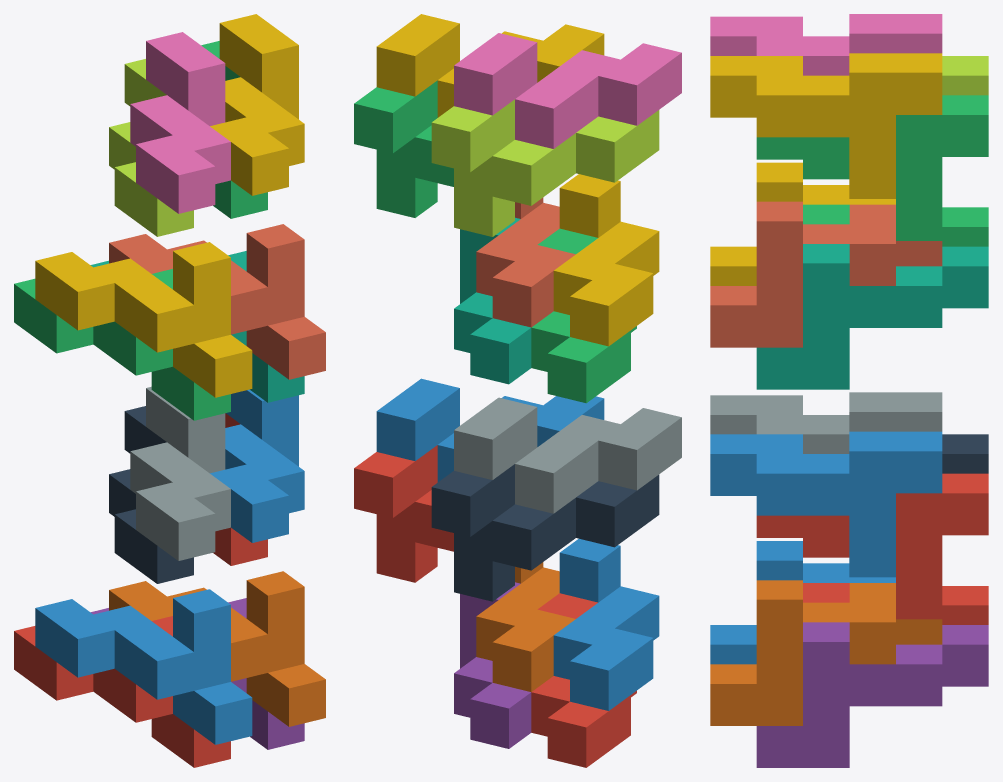
The model's file is tiling.obj.
3 views of the same model, side by side, from view 1: azimuth 30°, elevation 25°; view 2: azimuth 150°, elevation 25°; view 3: azimuth 270°, elevation 25° (orthographic). The views are drawn at different scales.
Visible parts, largest first — view 1: copy_1_domain_4, copy_1_domain_2, copy_2_domain_4, copy_2_domain_2, copy_2_domain_8, copy_1_domain_8, copy_1_domain_6, copy_2_domain_6, copy_1_domain_3, copy_1_domain_1, copy_2_domain_3, copy_2_domain_1 (+4 smaller); view 2: copy_2_domain_4, copy_2_domain_2, copy_2_domain_1, copy_2_domain_3, copy_1_domain_4, copy_1_domain_2, copy_2_domain_5, copy_2_domain_7, copy_2_domain_8, copy_1_domain_6, copy_1_domain_8, copy_2_domain_6 (+4 smaller); view 3: copy_2_domain_6, copy_2_domain_8, copy_1_domain_7, copy_1_domain_5, copy_1_domain_6, copy_1_domain_8, copy_2_domain_5, copy_2_domain_7, copy_2_domain_4, copy_2_domain_2, copy_1_domain_2, copy_1_domain_4 (+4 smaller).
Part boxes in pixels (<box>): copy_1_domain_4: <box>35,242,252,397</box>; copy_1_domain_2: <box>35,589,252,744</box>; copy_2_domain_4: <box>130,32,230,213</box>; copy_2_domain_2: <box>130,386,230,560</box>; copy_2_domain_8: <box>210,14,304,195</box>; copy_1_domain_8: <box>109,224,325,379</box>; copy_1_domain_6: <box>109,571,325,726</box>; copy_2_domain_6: <box>210,389,304,542</box>; copy_1_domain_3: <box>14,269,230,420</box>; copy_1_domain_1: <box>14,616,230,767</box>; copy_2_domain_3: <box>109,59,193,236</box>; copy_2_domain_1: <box>109,406,193,583</box>; copy_2_domain_4: <box>454,33,681,148</box>; copy_2_domain_2: <box>454,397,681,513</box>; copy_2_domain_1: <box>431,464,659,601</box>; copy_2_domain_3: <box>431,99,659,236</box>; copy_1_domain_4: <box>553,174,659,346</box>; copy_1_domain_2: <box>553,538,659,710</box>; copy_2_domain_5: <box>354,445,453,582</box>; copy_2_domain_7: <box>354,80,453,217</box>; copy_2_domain_8: <box>376,14,604,117</box>; copy_1_domain_6: <box>476,562,575,691</box>; copy_1_domain_8: <box>476,197,575,327</box>; copy_2_domain_6: <box>376,378,604,482</box>; copy_2_domain_6: <box>710,431,942,577</box>; copy_2_domain_8: <box>710,53,942,198</box>; copy_1_domain_7: <box>756,244,988,389</box>; copy_1_domain_5: <box>756,622,988,767</box>; copy_1_domain_6: <box>710,580,942,725</box>; copy_1_domain_8: <box>710,201,942,347</box>; copy_2_domain_5: <box>756,473,988,619</box>; copy_2_domain_7: <box>756,95,988,240</box>; copy_2_domain_4: <box>710,14,942,75</box>; copy_2_domain_2: <box>710,392,942,453</box>; copy_1_domain_2: <box>710,541,895,664</box>; copy_1_domain_4: <box>710,162,895,285</box>.
Bounding box in the file's own units: 6 × 17 × 6.
